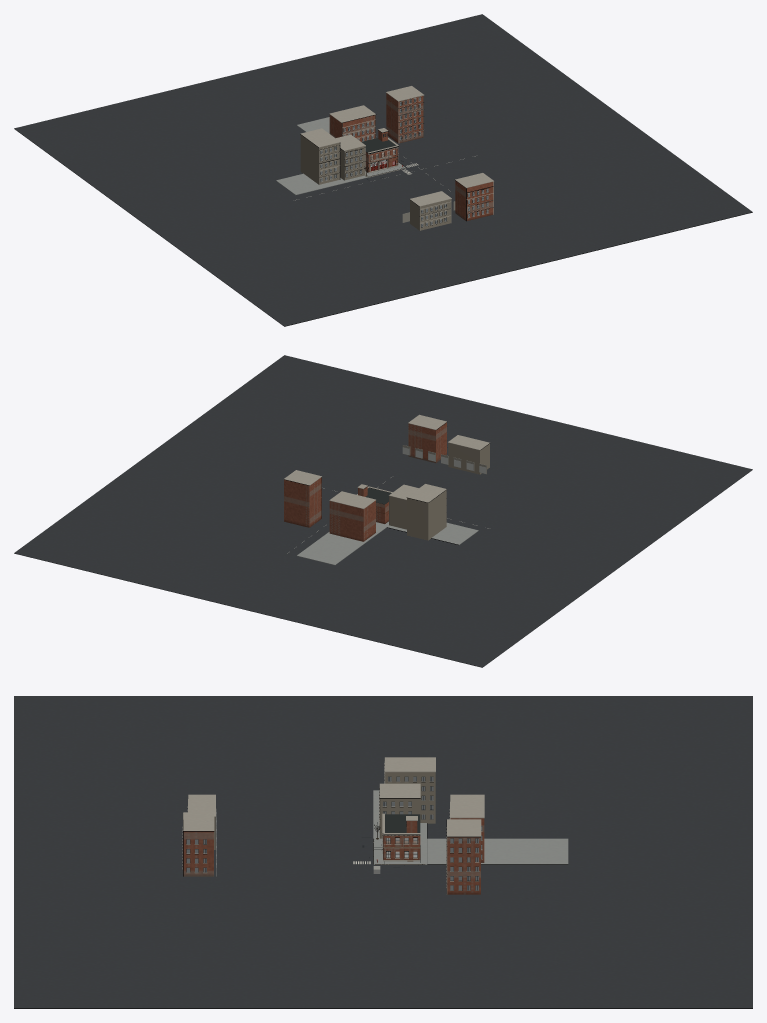
File: result.glb
3 renders of one model, top to bottom at view 1: azimuth 30°, elevation 25°; view 2: azimuth 150°, elevation 25°; view 3: azimuth 270°, elevation 25°, orthographic. The views are drawn at different scales.
Parts seen in each view (by area): view 1: Viewer baked procedural surfaces; view 2: Viewer baked procedural surfaces; view 3: Viewer baked procedural surfaces.
Boxes of the visible parts, box(x1,y1,x2,y2) form: Viewer baked procedural surfaces: box(14, 14, 752, 326); Viewer baked procedural surfaces: box(14, 355, 752, 667); Viewer baked procedural surfaces: box(14, 696, 752, 1008).
Size of the model in its own units: 220 by 19.35 by 220.
Materials: 17 (9 with a texture image).
